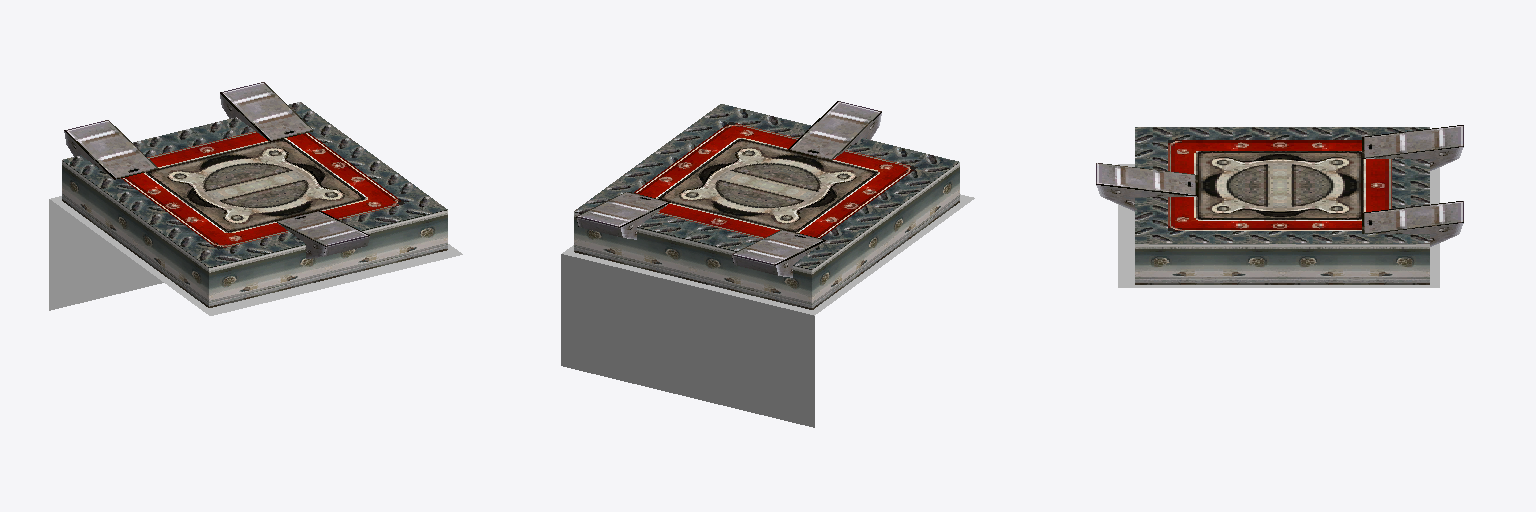
3 views of the same model, side by side, from view 1: azimuth 30°, elevation 25°; view 2: azimuth 150°, elevation 25°; view 3: azimuth 270°, elevation 25° (orthographic).
Size of the model in its own units: 22.83 by 14.2 by 28.71.
Materials: 5 (4 with a texture image).